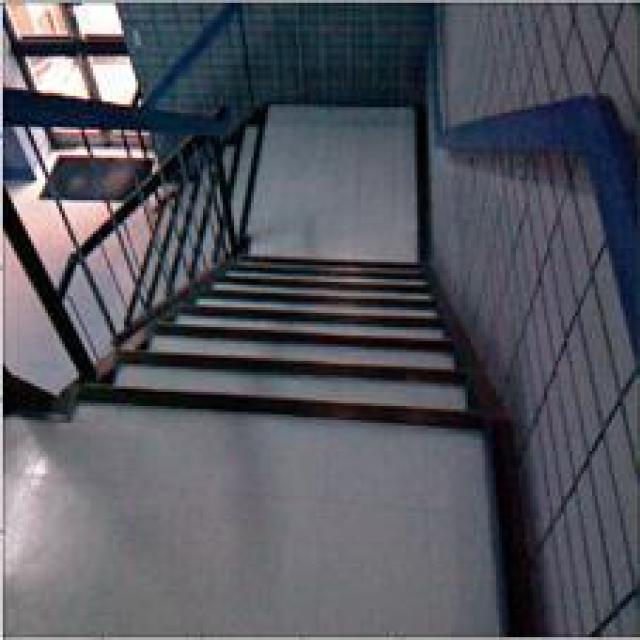downstair: (91, 283, 514, 492)
